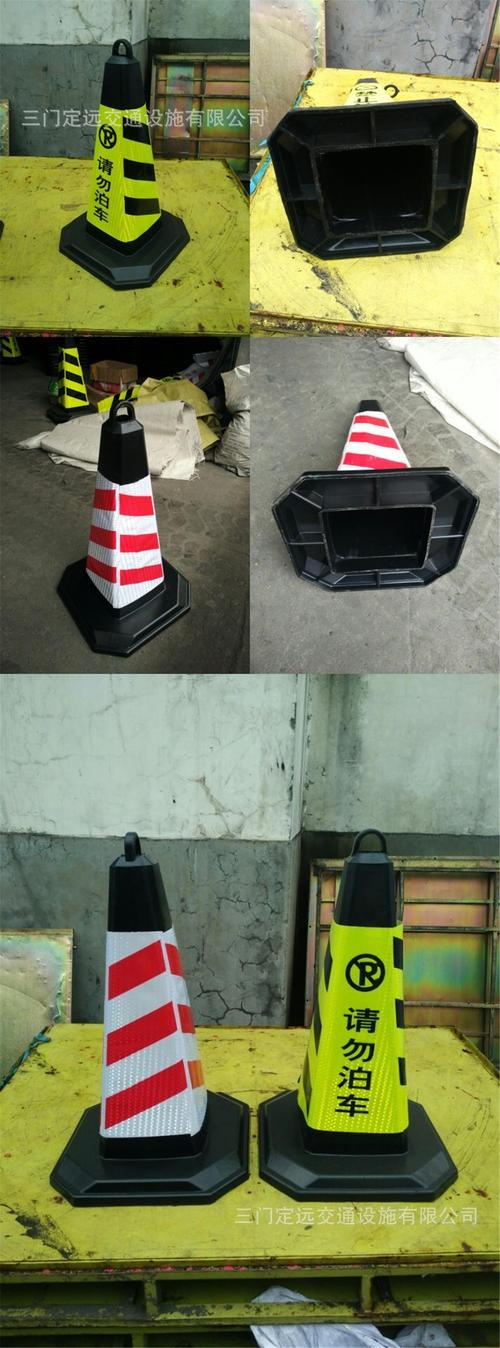cone_barrel: (271, 835, 434, 1173), (68, 839, 223, 1184), (275, 392, 460, 597), (59, 37, 183, 292), (64, 392, 189, 637)
